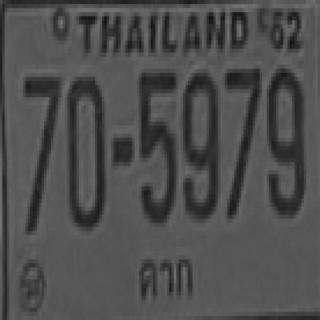N00: (65, 73, 104, 227)
N05: (137, 69, 174, 223)
N07: (22, 73, 59, 231), (223, 65, 260, 215)
N09: (181, 69, 218, 219), (267, 65, 304, 215)
P69: (130, 246, 198, 304)
